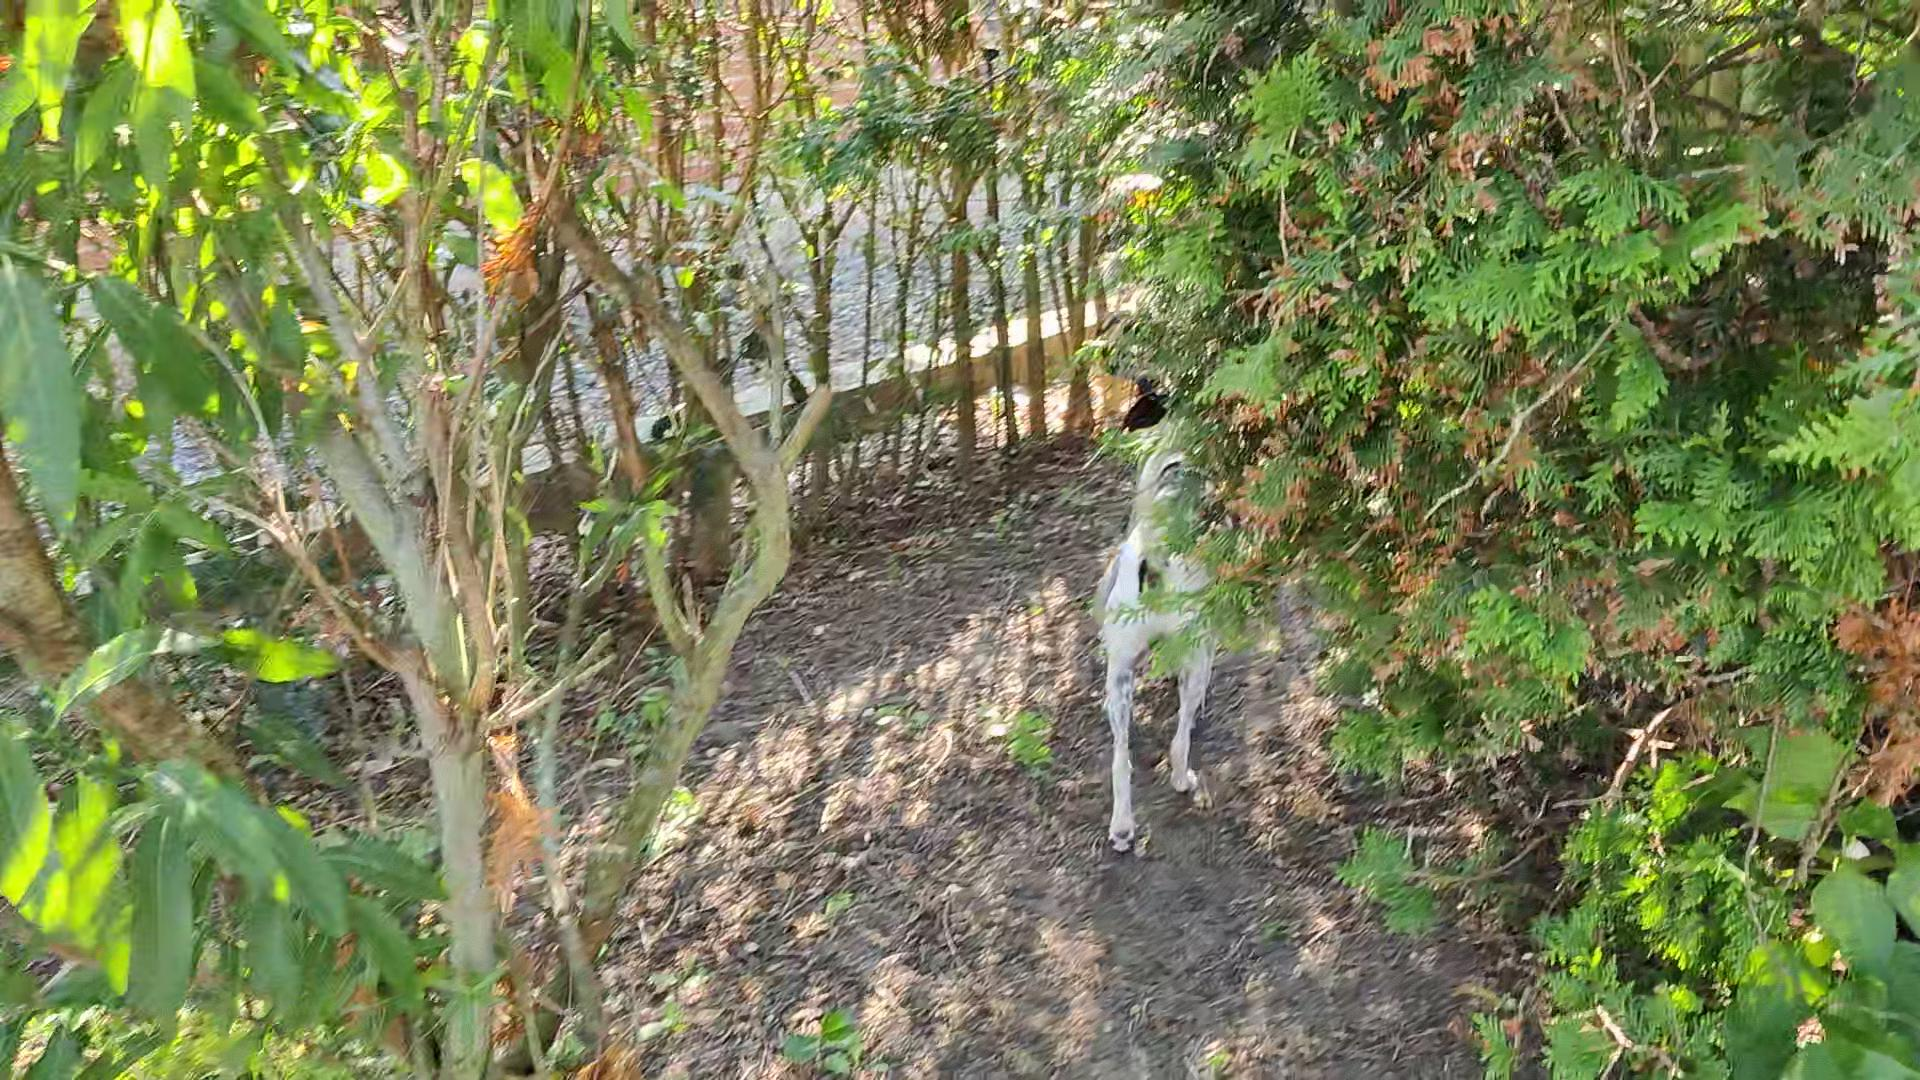Dog: (1077, 363, 1236, 873)
